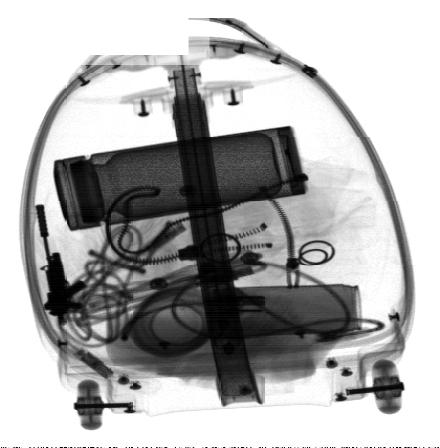Gun: (33, 203, 86, 329)
